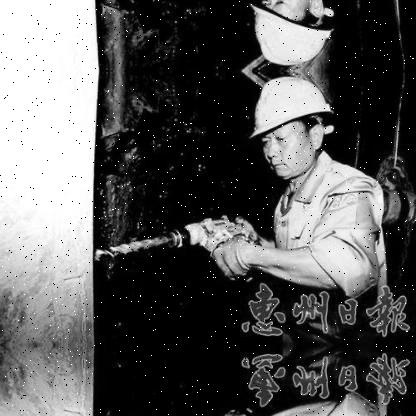Helmet: (254, 80, 338, 178), (244, 2, 343, 70)
